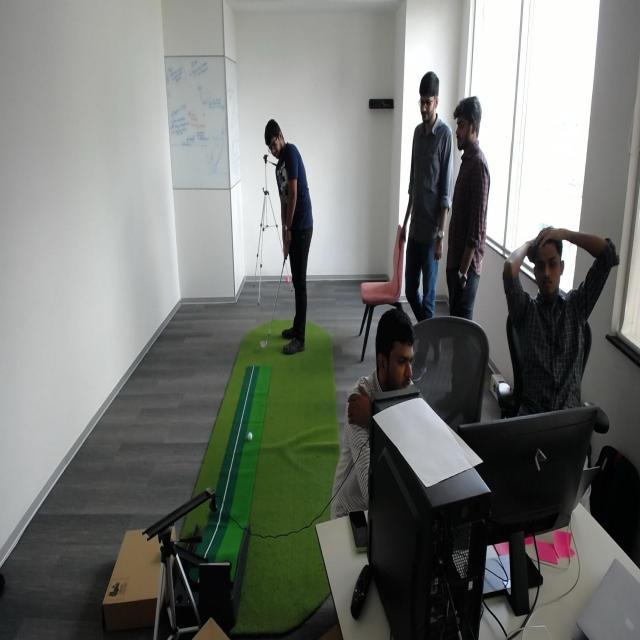ClubHead: (258, 316, 276, 352)
GolfBall: (245, 425, 258, 448)
